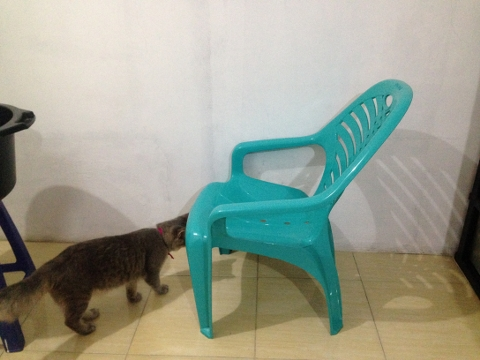kursi: (185, 79, 414, 339)
